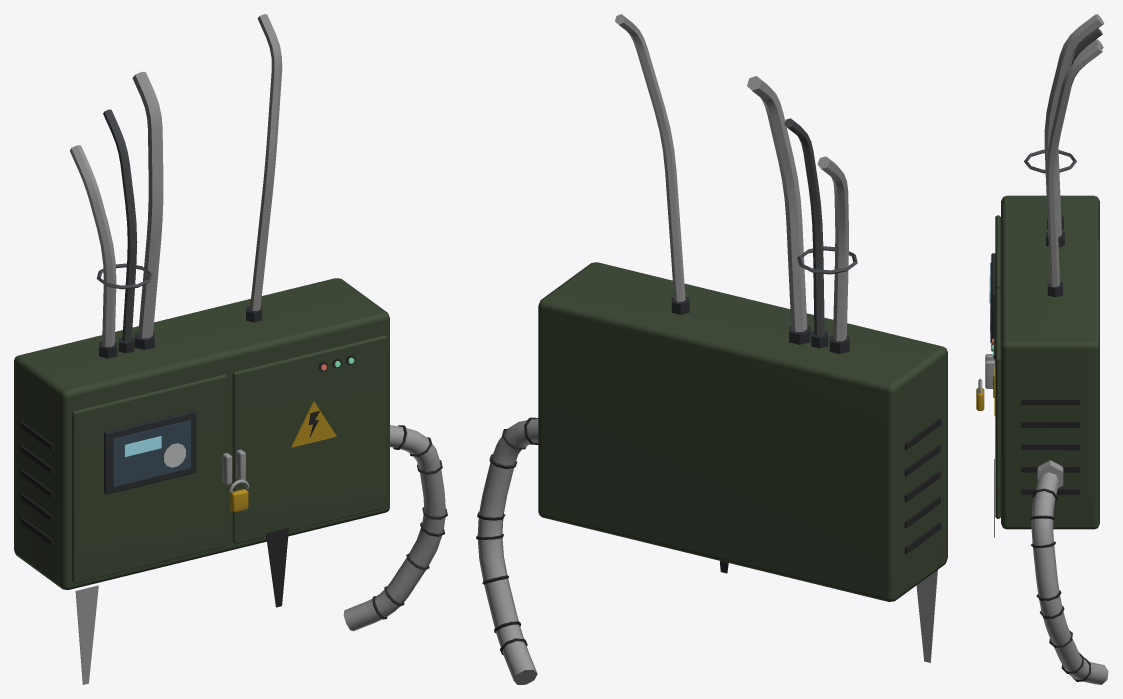
Rendered from Electrical_Box_B.fbx.
The picture shows the model from 3 angles, left to right: view 1: azimuth 30°, elevation 25°; view 2: azimuth 150°, elevation 25°; view 3: azimuth 270°, elevation 25°; orthographic projection. The views are drawn at different scales.
Visible parts, largest first — view 1: Electrical_Box_B_LOD0; view 2: Electrical_Box_B_LOD0; view 3: Electrical_Box_B_LOD0.
Boxes of the visible parts, x1,y1,x2,y2 form: Electrical_Box_B_LOD0: (14,14,447,684); Electrical_Box_B_LOD0: (476,14,947,684); Electrical_Box_B_LOD0: (976,14,1108,684).
Size of what is drawn, in the model's own units: 0.8984 by 1.34 by 0.2676.
